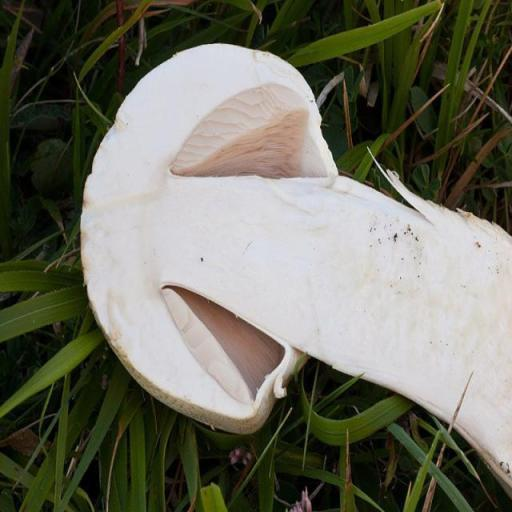mushroom: (81, 42, 512, 494)
